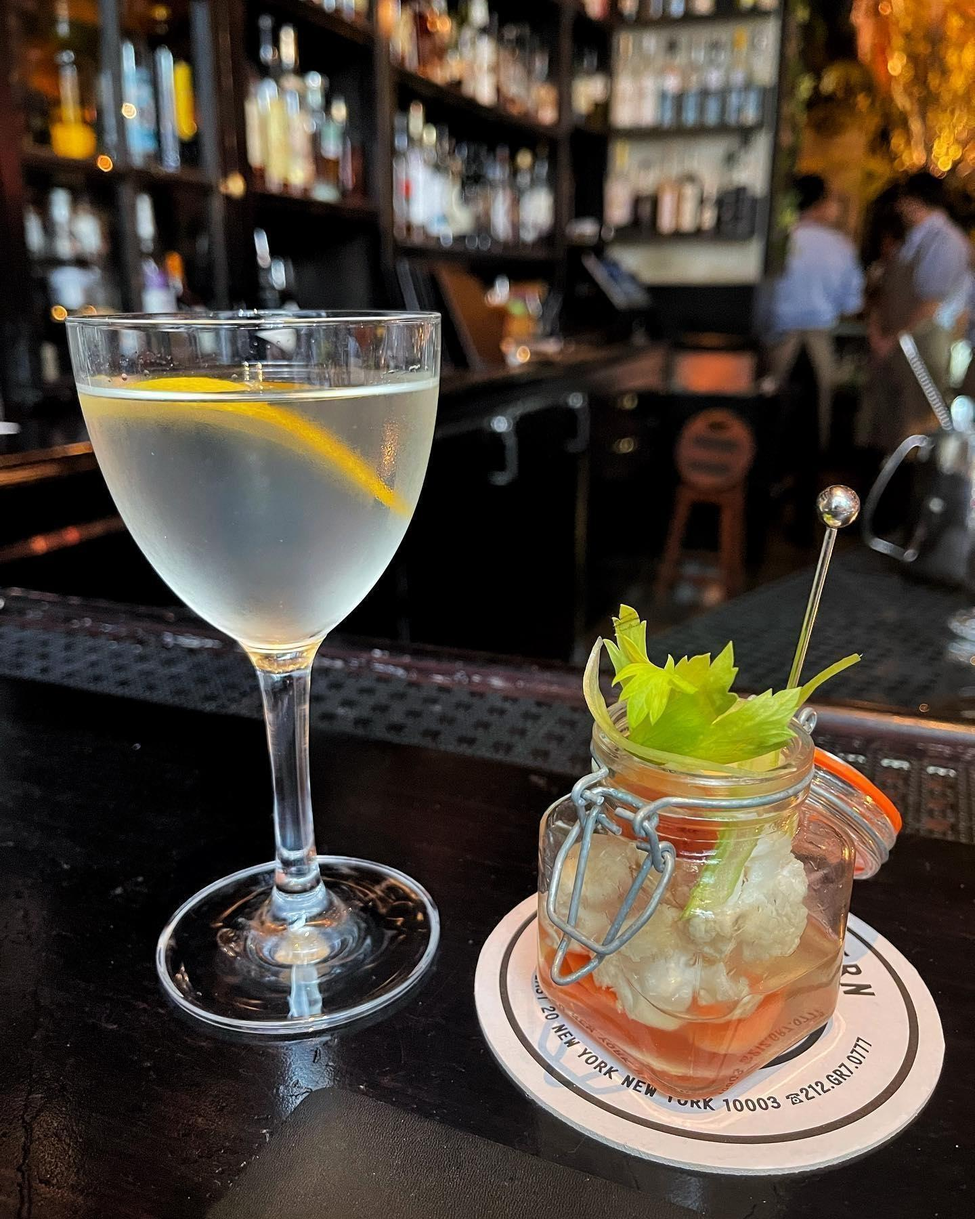glass-wine: (55, 290, 473, 1048)
